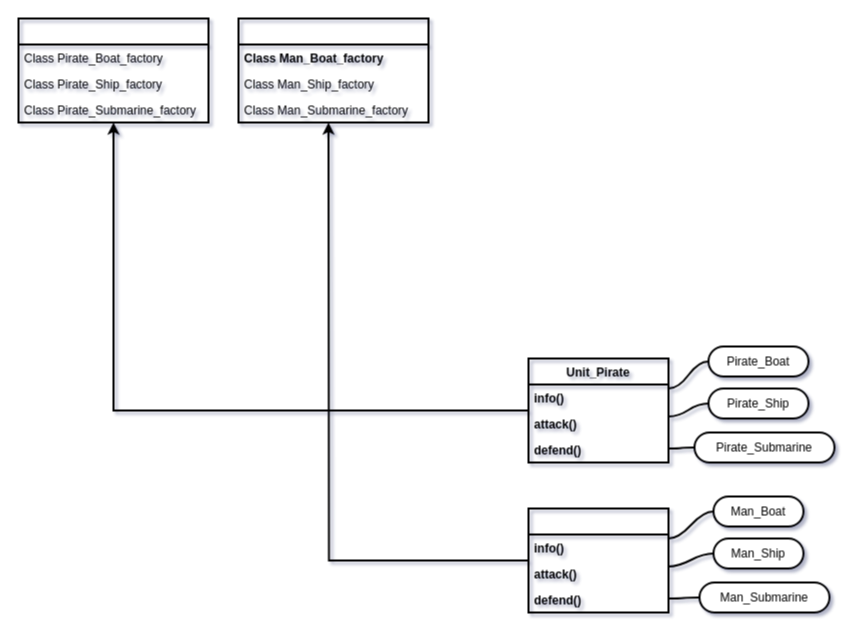
Some shapes in this 858 by 638 pixel diagram are drawn without their labels. Each missing label, with the box of its shape:
Man_factory: (237, 17, 429, 123)
Pirate_factory: (17, 17, 209, 123)
Unit_Man: (527, 507, 669, 613)
